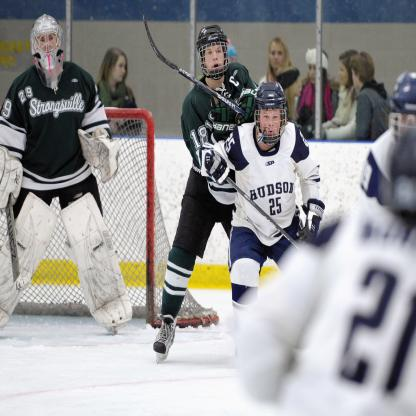Helmet: (385, 124, 416, 221), (254, 79, 288, 147), (389, 68, 416, 145), (30, 13, 65, 71), (196, 23, 231, 80)
